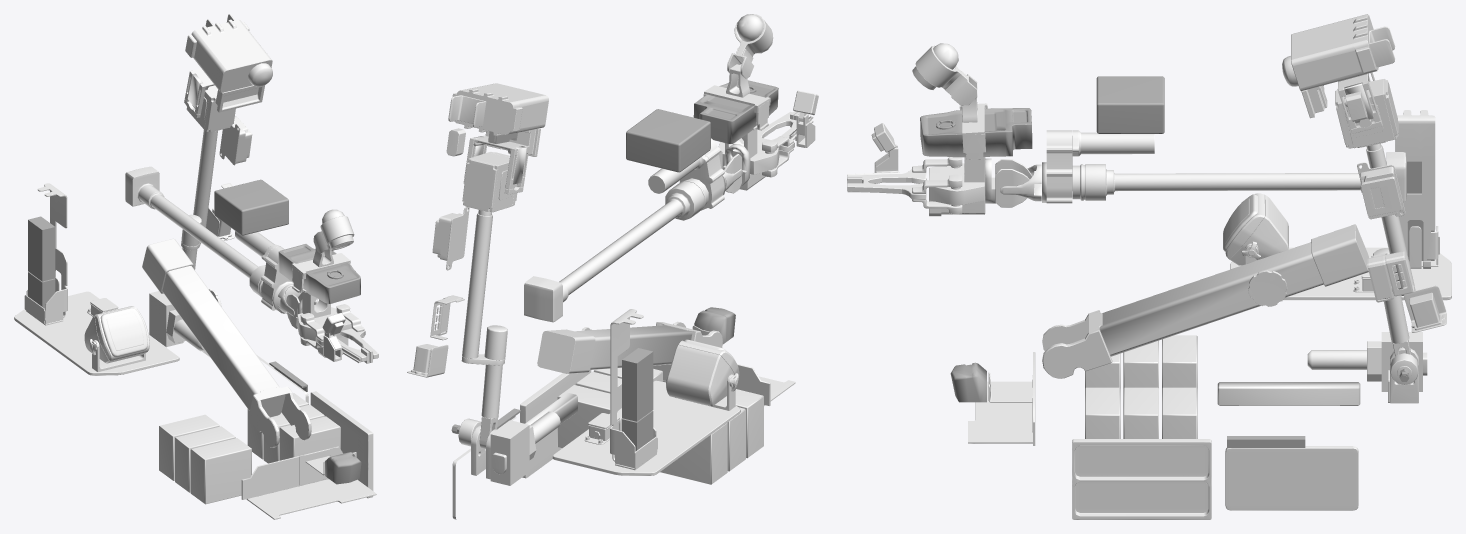
The picture shows the model from 3 angles, left to right: view 1: azimuth 30°, elevation 25°; view 2: azimuth 150°, elevation 25°; view 3: azimuth 270°, elevation 25°; orthographic projection. The views are drawn at different scales.
Parts seen in each view (by area): view 1: upperArm, barSupports, radioPlatform, batteries, sideArm, upperCamera, frontRig, jcad, firstDefender, lowerArea, MPU5_Radio, front_sensors (+2 smaller); view 2: upperArm, sideArm, radioPlatform, batteries, barSupports, upperCamera, jcad, MPU5_Radio, firstDefender, lowerArea, sideCameraMount, frontRig (+3 smaller); view 3: upperArm, lowerArea (×2), barSupports, sideArm, radioPlatform, batteries, upperCamera, firstDefender, jcad, frontRig, thermostat, sideCameraMount (+3 smaller).
Part boxes in pixels (x1=…): upperArm: x1=125, y1=166, x2=378, y2=363; barSupports: x1=142, y1=238, x2=311, y2=447; radioPlatform: x1=14, y1=183, x2=179, y2=375; batteries: x1=159, y1=393, x2=340, y2=504; sideArm: x1=149, y1=85, x2=240, y2=357; upperCamera: x1=185, y1=14, x2=272, y2=112; frontRig: x1=241, y1=446, x2=376, y2=519; jcad: x1=214, y1=179, x2=288, y2=235; firstDefender: x1=278, y1=244, x2=360, y2=303; lowerArea: x1=256, y1=354, x2=373, y2=498; MPU5_Radio: x1=28, y1=216, x2=55, y2=309; front_sensors: x1=325, y1=452, x2=361, y2=484; upperArm: x1=524, y1=14, x2=818, y2=322; sideArm: x1=407, y1=152, x2=577, y2=485; radioPlatform: x1=552, y1=309, x2=740, y2=475; batteries: x1=557, y1=368, x2=763, y2=484; barSupports: x1=537, y1=321, x2=722, y2=373; upperCamera: x1=448, y1=83, x2=548, y2=156; jcad: x1=626, y1=109, x2=710, y2=172; MPU5_Radio: x1=622, y1=348, x2=653, y2=450; firstDefender: x1=693, y1=79, x2=778, y2=143; lowerArea: x1=452, y1=370, x2=591, y2=519; sideCameraMount: x1=446, y1=128, x2=529, y2=194; frontRig: x1=653, y1=325, x2=795, y2=406; upperArm: x1=847, y1=43, x2=1406, y2=216; lowerArea (×2): x1=1072, y1=436, x2=1358, y2=519; barSupports: x1=1042, y1=224, x2=1368, y2=378; sideArm: x1=1217, y1=79, x2=1446, y2=405; radioPlatform: x1=1223, y1=110, x2=1451, y2=300; batteries: x1=1085, y1=335, x2=1197, y2=438; upperCamera: x1=1282, y1=14, x2=1395, y2=118; firstDefender: x1=920, y1=108, x2=1032, y2=157; jcad: x1=1096, y1=76, x2=1164, y2=133; frontRig: x1=968, y1=352, x2=1035, y2=445; thermostat: x1=1360, y1=166, x2=1402, y2=219; sideCameraMount: x1=1338, y1=72, x2=1382, y2=133.
Bounding box in the file's own units: 0.7003 × 1.23 × 1.42.
Materials: 13 (1 with a texture image).
